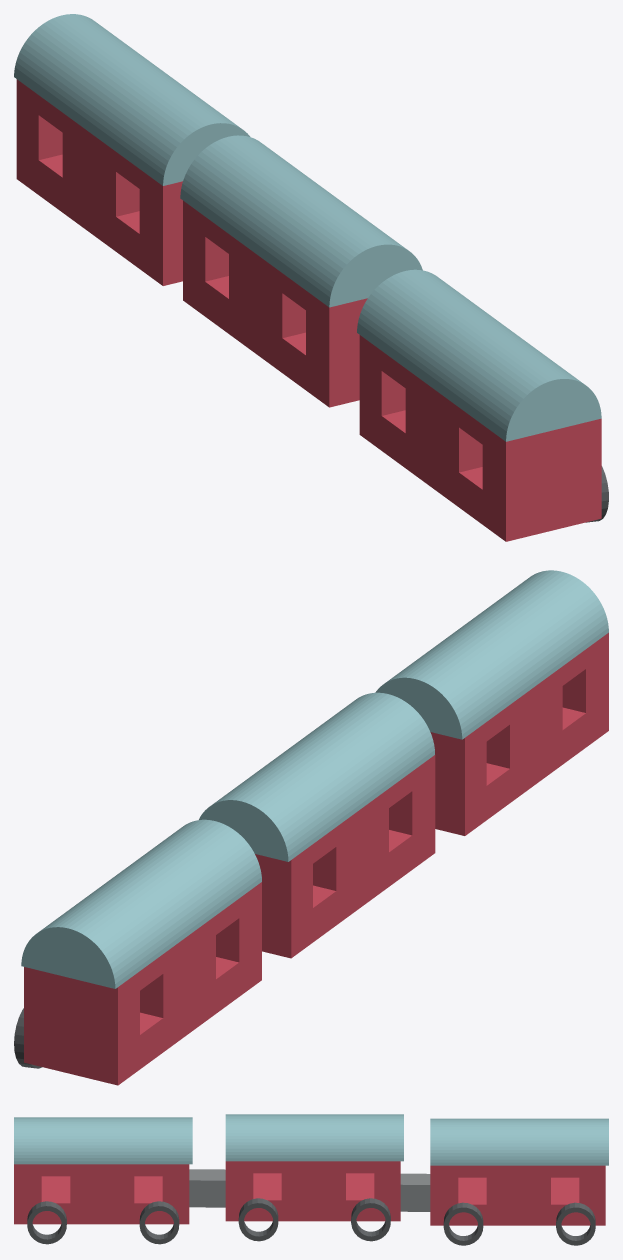
The model's file is Daring Jaban.glb.
3 views of the same model, one above another, from view 1: azimuth 30°, elevation 25°; view 2: azimuth 150°, elevation 25°; view 3: azimuth 270°, elevation 25° (orthographic). The views are drawn at different scales.
Visible parts, largest first — view 1: Mesh_Mesh_head_geo.001_lambert2SG.001; view 2: Mesh_Mesh_head_geo.001_lambert2SG.001; view 3: Mesh_Mesh_head_geo.001_lambert2SG.001.
Boxes of the visible parts, x1,y1,x2,y2 form: Mesh_Mesh_head_geo.001_lambert2SG.001: [14, 14, 608, 541]; Mesh_Mesh_head_geo.001_lambert2SG.001: [14, 570, 608, 1085]; Mesh_Mesh_head_geo.001_lambert2SG.001: [14, 1114, 608, 1245].
Size of the model in its own units: 25 by 36 by 180.
